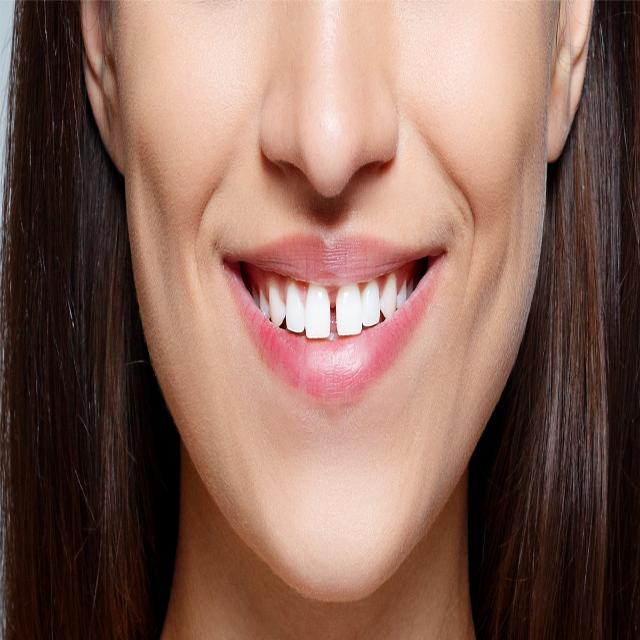tooth: (306, 284, 331, 334), (337, 286, 361, 336), (287, 282, 304, 334), (365, 286, 381, 328), (383, 276, 398, 319), (270, 284, 285, 323)
